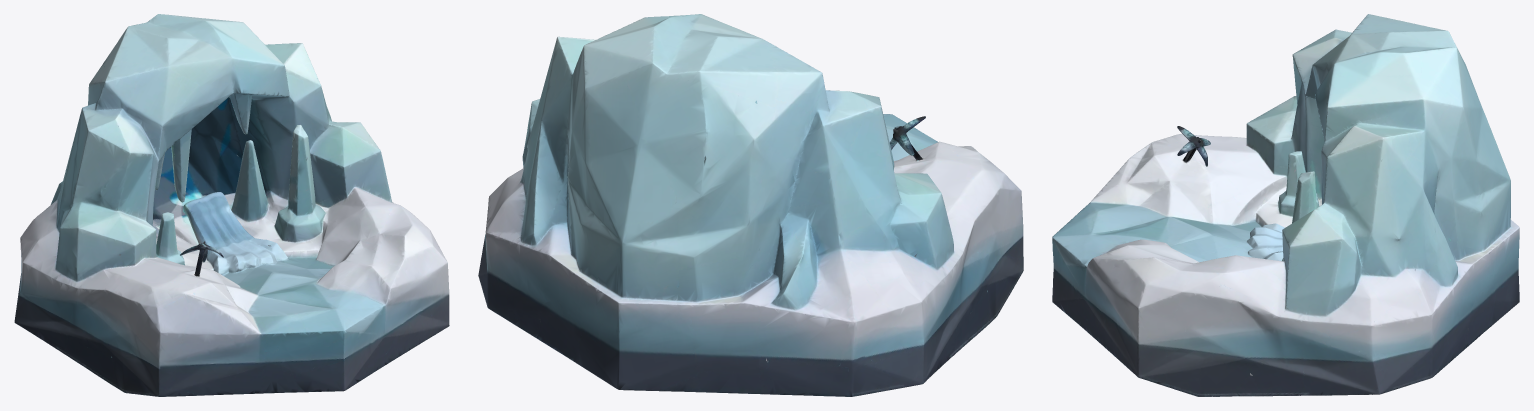
The model's file is snowtile_lv5.glb.
3 renders of one model, left to right at view 1: azimuth 30°, elevation 25°; view 2: azimuth 150°, elevation 25°; view 3: azimuth 270°, elevation 25°, orthographic. The views are drawn at different scales.
Bounding box in the file's own units: 1.78 × 1.31 × 1.9.
1 material, 1 textured.
